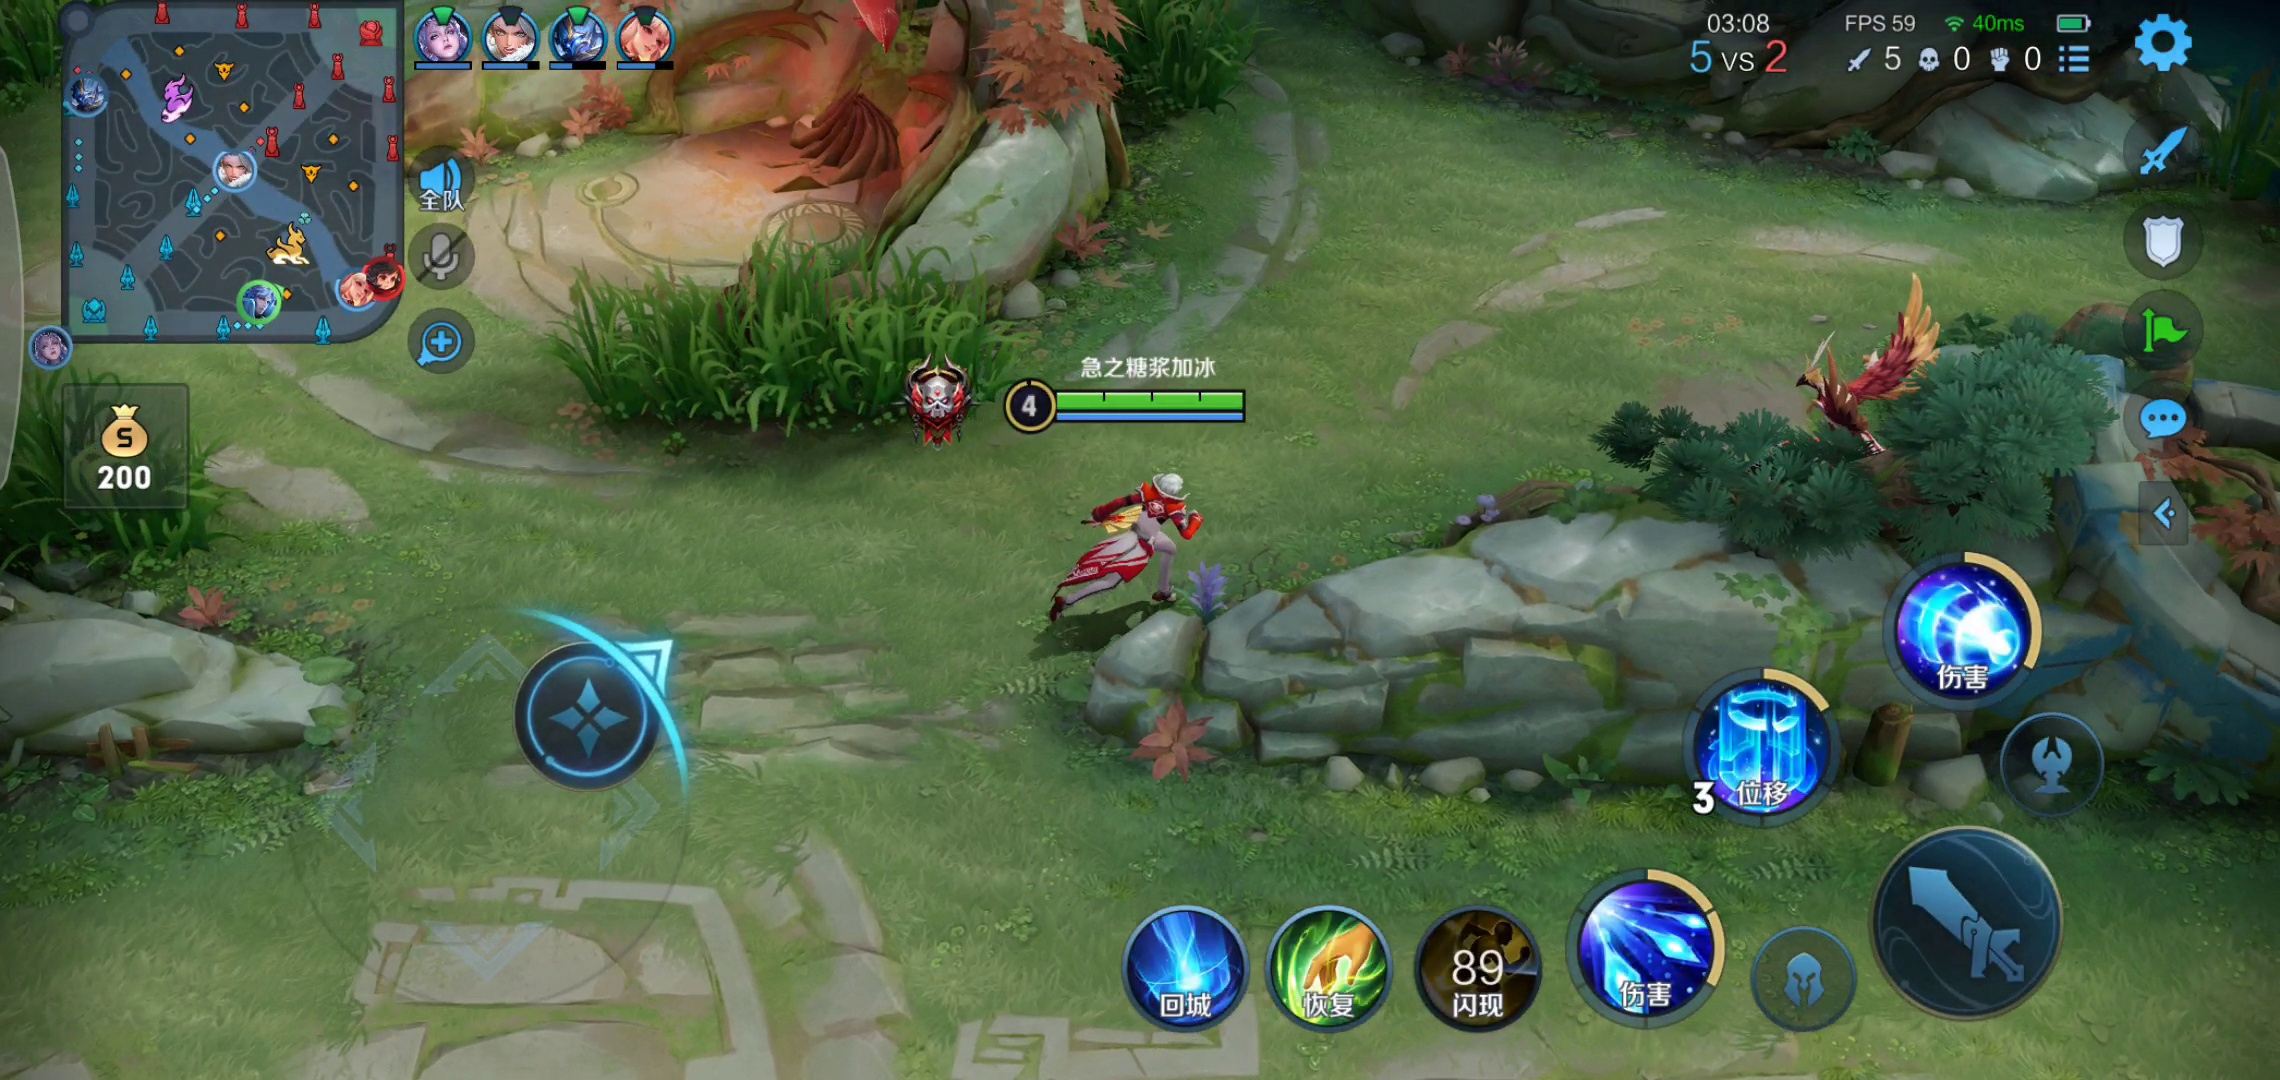grass: (539, 249, 1027, 422), (1, 368, 247, 584), (1075, 1, 1269, 135)
hero: (1028, 456, 1213, 626)
wild_monster: (1759, 314, 1953, 488)
